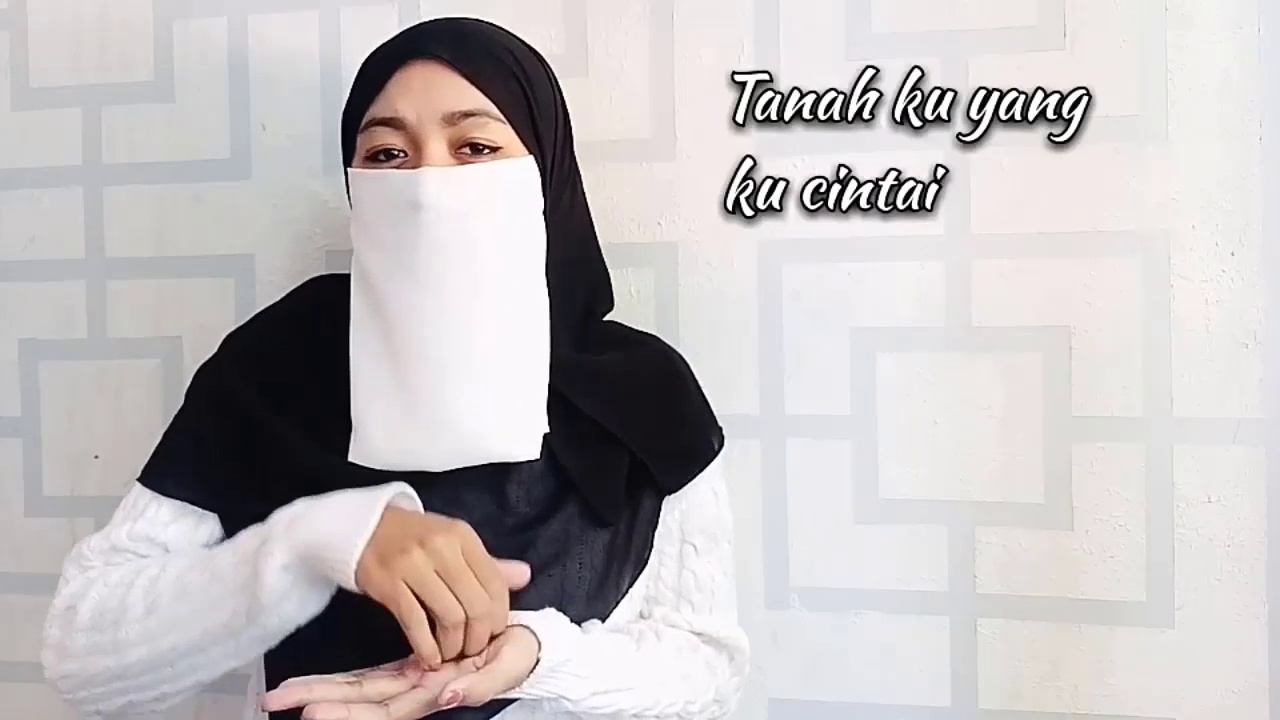TANAH: (301, 472, 563, 720)
